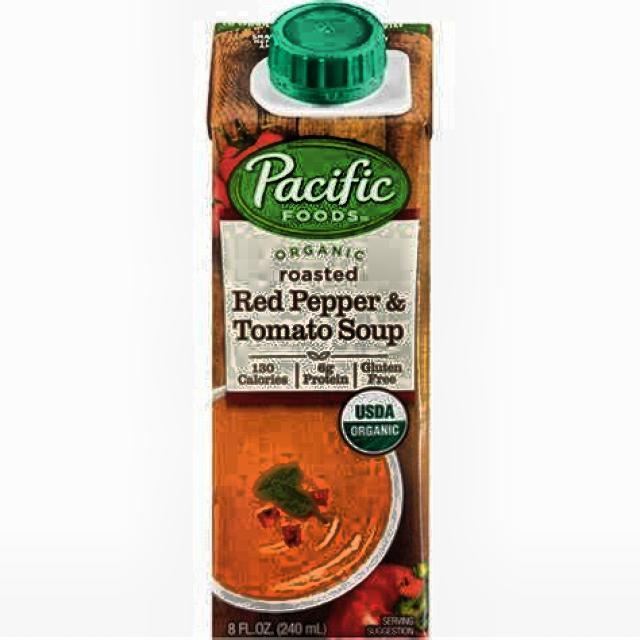cardboard: (205, 14, 434, 638)
